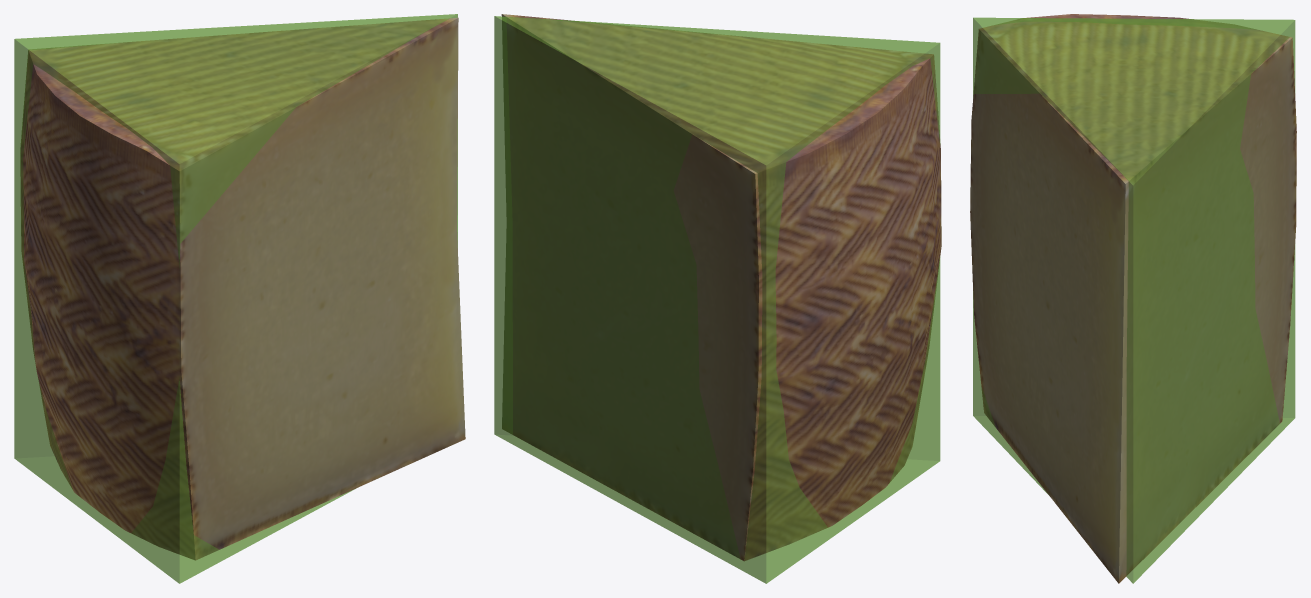
Rendered from pg_Cheese_02.fbx.
3 renders of one model, left to right at view 1: azimuth 30°, elevation 25°; view 2: azimuth 150°, elevation 25°; view 3: azimuth 270°, elevation 25°, orthographic. The views are drawn at different scales.
Visible parts, largest first — view 1: pg_Cheese_02_a_LOD0, pg_Cheese_02_a_col; view 2: pg_Cheese_02_a_LOD0, pg_Cheese_02_a_col; view 3: pg_Cheese_02_a_LOD0, pg_Cheese_02_a_col.
Part boxes in pixels (box(x1,y1,x2,y2)): pg_Cheese_02_a_LOD0: box(20, 17, 465, 560); pg_Cheese_02_a_col: box(14, 14, 457, 583); pg_Cheese_02_a_LOD0: box(501, 14, 941, 561); pg_Cheese_02_a_col: box(494, 16, 940, 583); pg_Cheese_02_a_LOD0: box(970, 14, 1296, 583); pg_Cheese_02_a_col: box(973, 17, 1295, 583).
Size of what is drawn, in the model's own units: 16.18 by 16.69 by 12.41.
2 materials, 1 textured.
